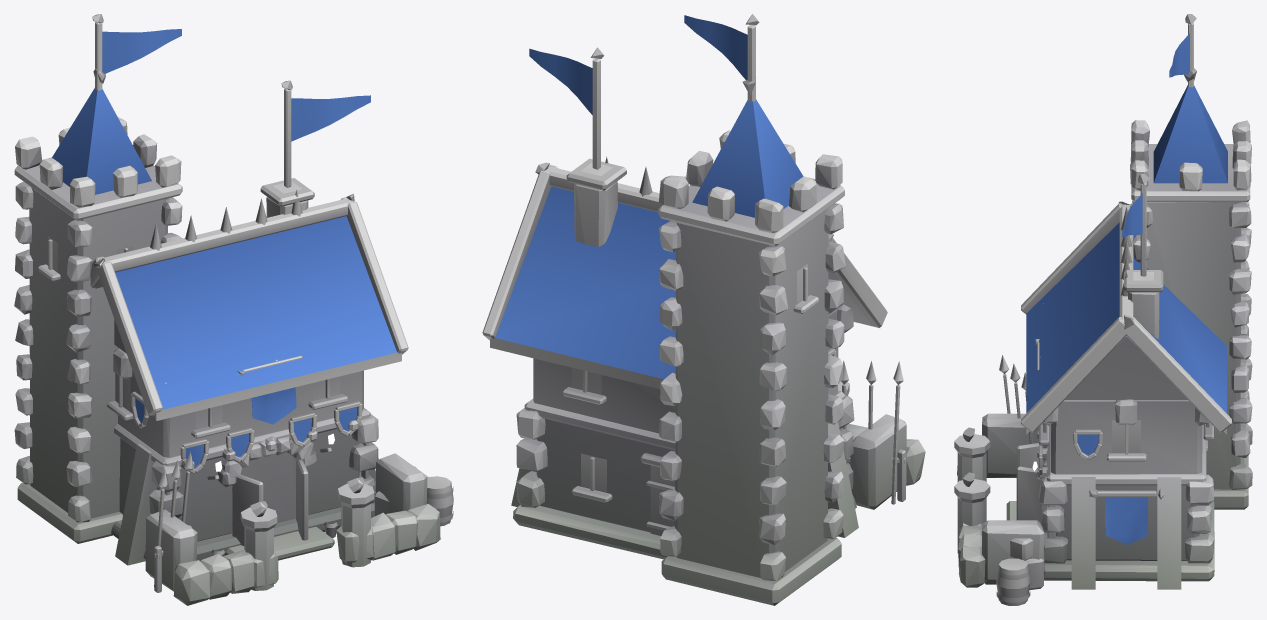
File: barracks_1_9.glb
3 views of the same model, side by side, from view 1: azimuth 30°, elevation 25°; view 2: azimuth 150°, elevation 25°; view 3: azimuth 270°, elevation 25° (orthographic). The views are drawn at different scales.
Parts seen in each view (by area): view 1: Tower; view 2: Tower; view 3: Tower.
Part boxes in pixels (x1,y1,x2,y2): Tower: (14, 14, 453, 605); Tower: (482, 14, 925, 605); Tower: (954, 14, 1252, 605).
Bounding box in the file's own units: 4.03 × 6.11 × 3.48.
